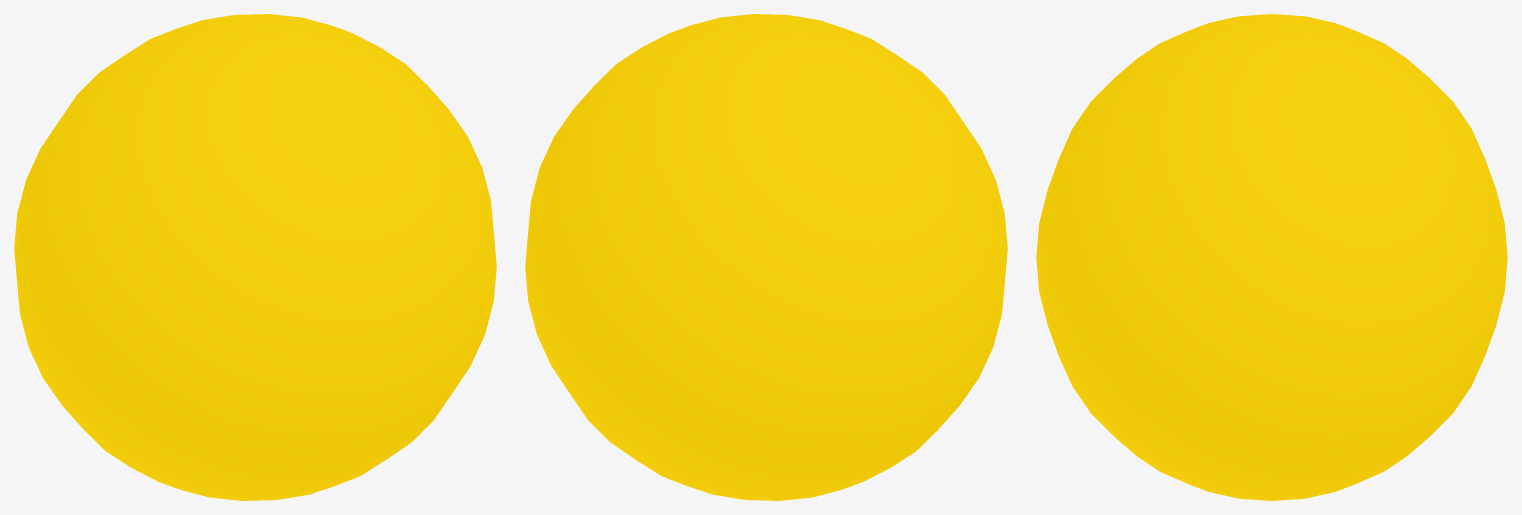
Rendered from sun.fbx.
The picture shows the model from 3 angles, left to right: view 1: azimuth 30°, elevation 25°; view 2: azimuth 150°, elevation 25°; view 3: azimuth 270°, elevation 25°; orthographic projection.
Visible parts, largest first — view 1: pSphere1; view 2: pSphere1; view 3: pSphere1.
Boxes of the visible parts, box(x1,y1,x2,y2) form: pSphere1: box(14, 14, 496, 500); pSphere1: box(525, 14, 1007, 500); pSphere1: box(1036, 14, 1507, 500).
Size of the model in its own units: 7.37 by 7.37 by 7.13.
